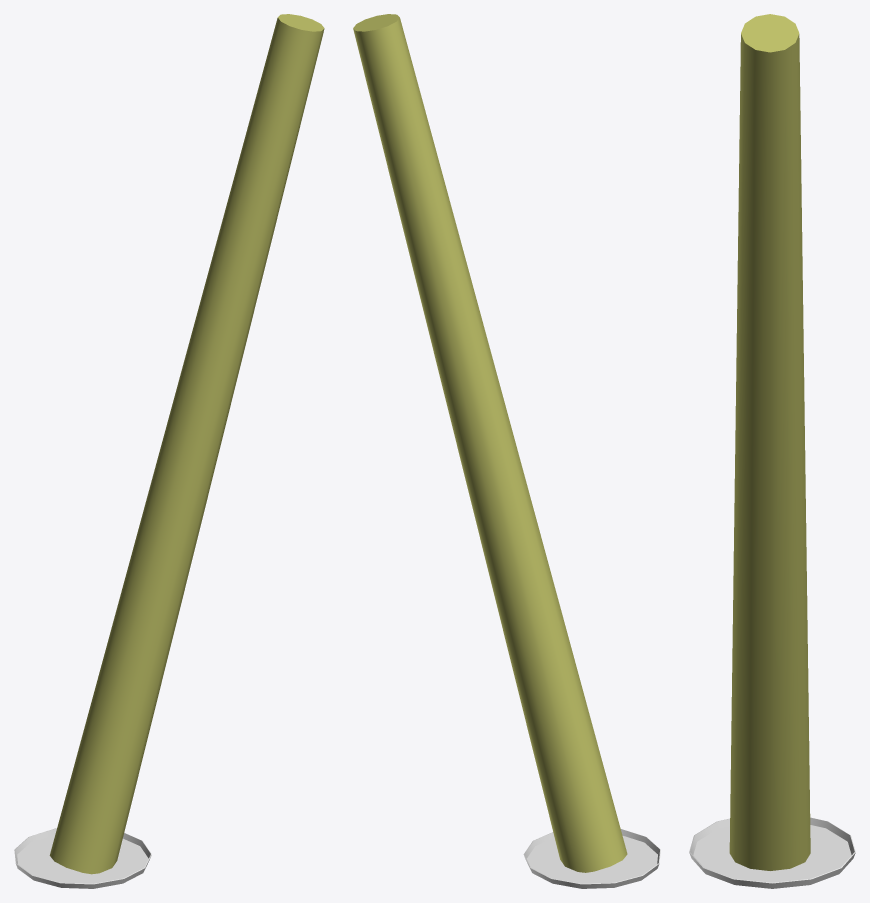
File: plate with reflect.fbx
3 views of the same model, side by side, from view 1: azimuth 30°, elevation 25°; view 2: azimuth 150°, elevation 25°; view 3: azimuth 270°, elevation 25° (orthographic). The views are drawn at different scales.
Parts seen in each view (by area): view 1: light_reflect1, silver_plate1; view 2: light_reflect1, silver_plate1; view 3: light_reflect1, silver_plate1.
Part boxes in pixels (box(x1,y1,x2,y2)): light_reflect1: box(49, 14, 324, 874); silver_plate1: box(14, 828, 151, 888); light_reflect1: box(353, 14, 627, 872); silver_plate1: box(523, 829, 660, 888); light_reflect1: box(729, 14, 810, 870); silver_plate1: box(689, 817, 855, 888).
Bounding box in the file's own units: 142 × 368 × 57.4.
